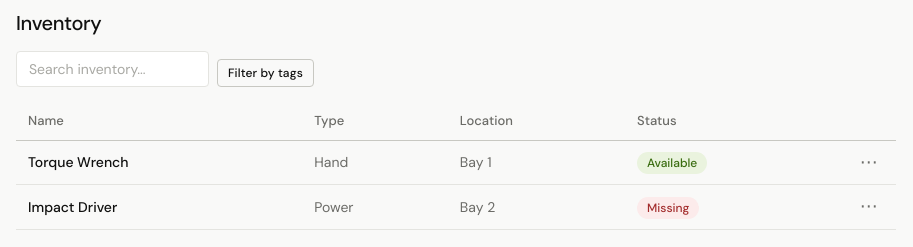
Test: InventoryPage — tag filter › shows active filter count on the button when a tag is selected
Click the button "Filter by tags".
click(265, 73)  # box [217,59,314,87]
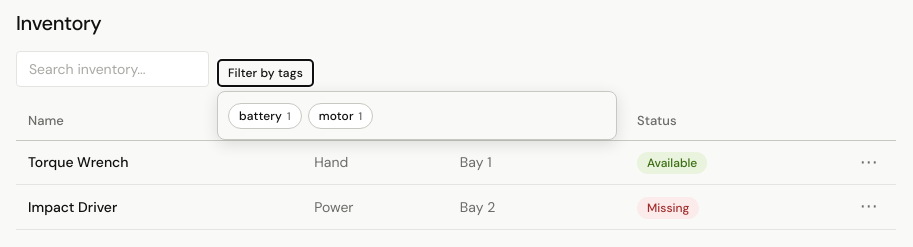
expect the button "battery1" is shown: met
Click the button "battery1".
click(265, 116)  # box [228,103,302,129]
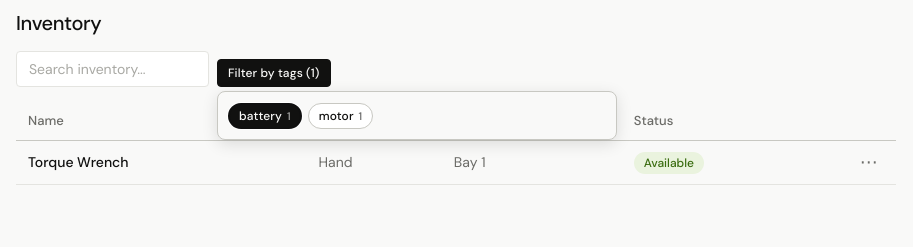
expect the button "Filter by tags (1)" is shown: met, box [217,59,331,87]
